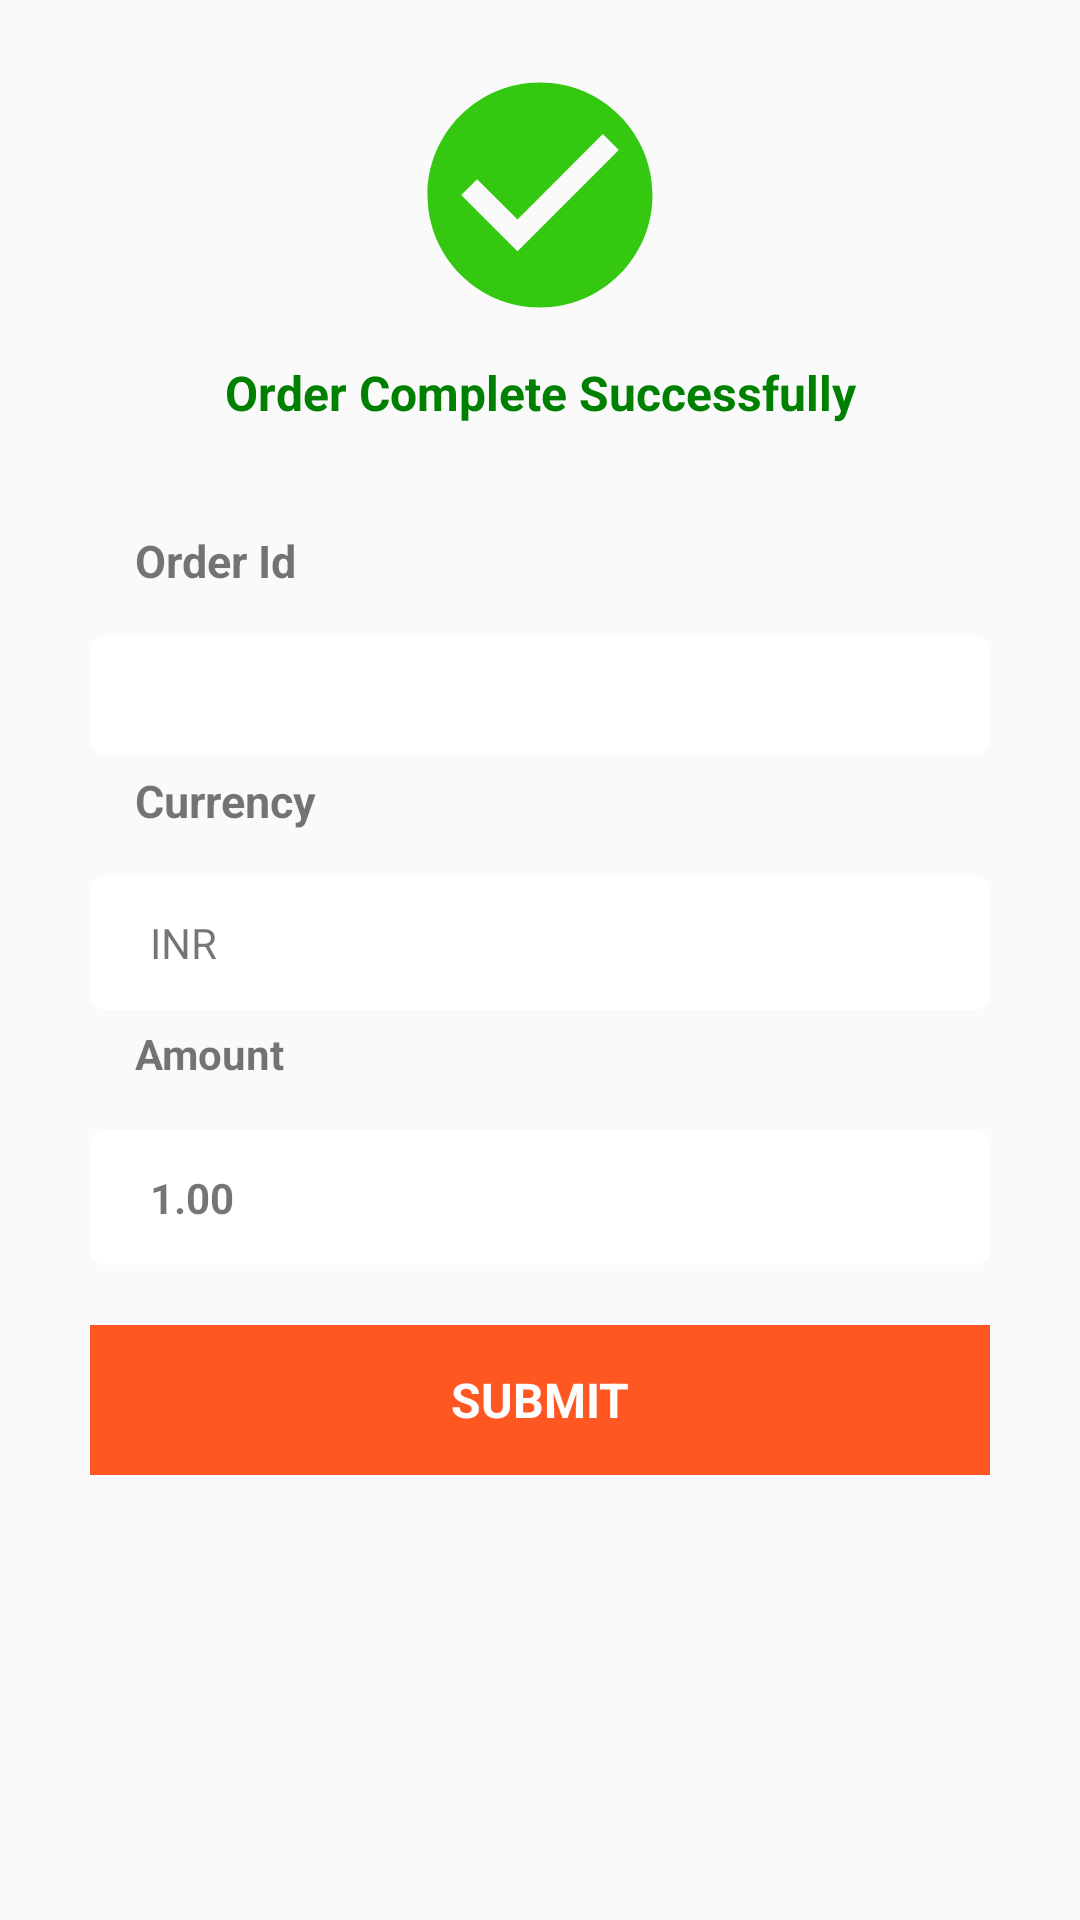

Named icons in this screenshot (1080px×1920px) and their bounding boxes, (x1, y1, x2, y2):
check: (427, 82, 653, 308)
